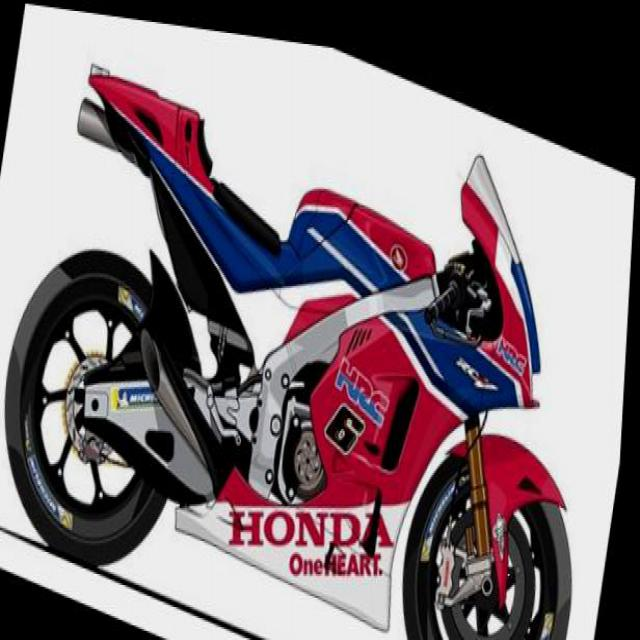HRC RCV 213: (0, 0, 637, 638)
